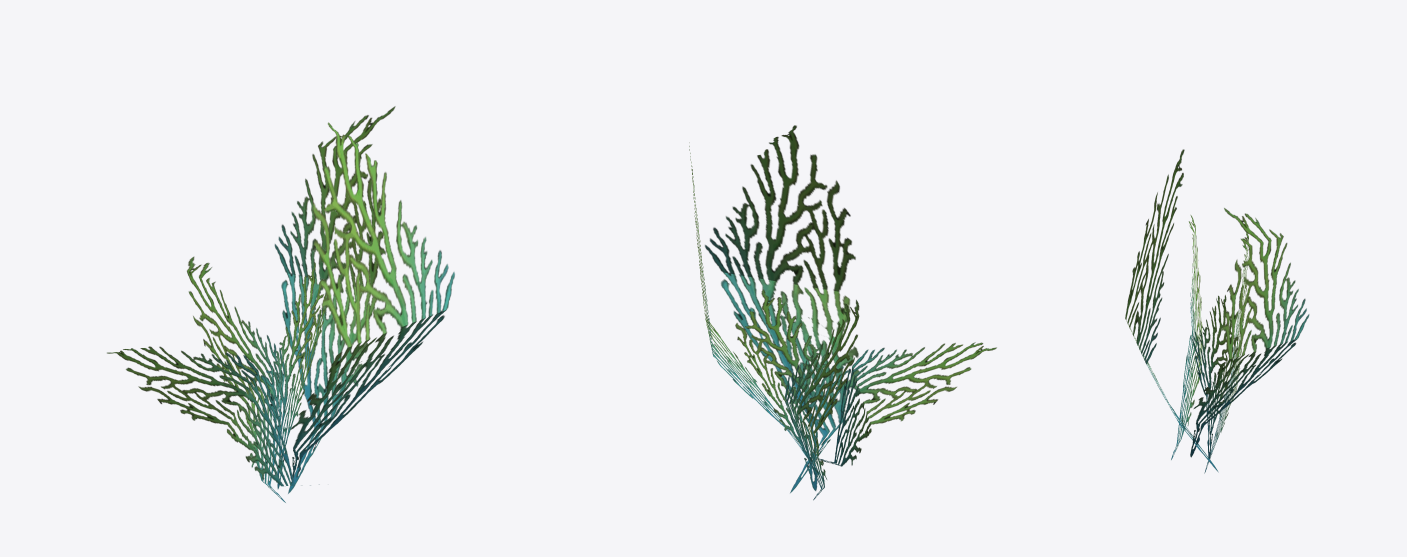
File: cyan_coral.glb
The picture shows the model from 3 angles, left to right: view 1: azimuth 30°, elevation 25°; view 2: azimuth 150°, elevation 25°; view 3: azimuth 270°, elevation 25°; orthographic projection. The views are drawn at different scales.
Visible parts, largest first — view 1: cyan_coral.004; view 2: cyan_coral.004; view 3: cyan_coral.004.
Part boxes in pixels (x1,y1,x2,y2): cyan_coral.004: (107, 106, 454, 502); cyan_coral.004: (689, 125, 996, 500); cyan_coral.004: (1125, 149, 1309, 473).
Size of the model in its own units: 1.96 by 1.88 by 1.11.
Materials: 1 (1 with a texture image).
